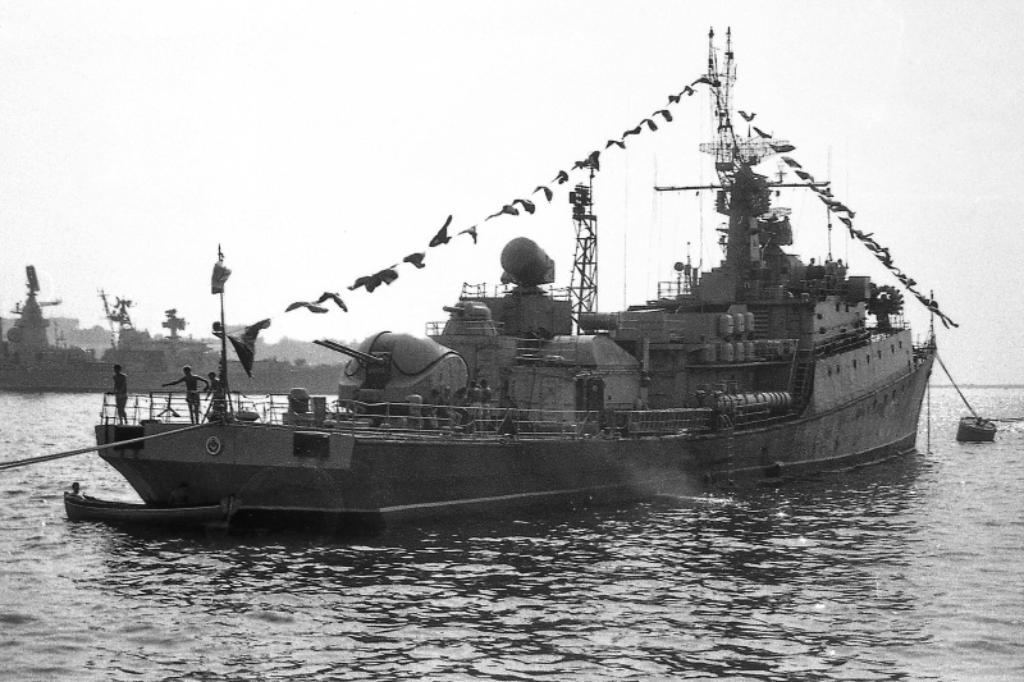Warship: (94, 23, 936, 529)
